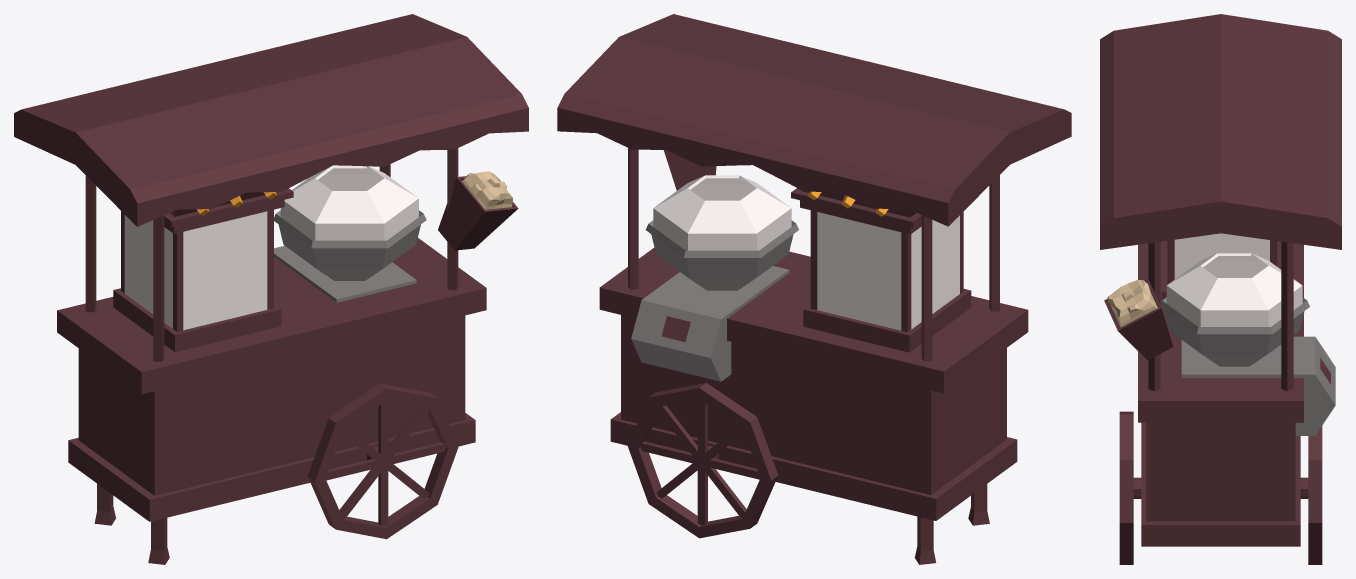
Rendered from amusement-park-stand-popcorn-big.glb.
3 views of the same model, side by side, from view 1: azimuth 30°, elevation 25°; view 2: azimuth 150°, elevation 25°; view 3: azimuth 270°, elevation 25° (orthographic).
Visible parts, largest first — view 1: stand-popcorn-big; view 2: stand-popcorn-big; view 3: stand-popcorn-big.
Boxes of the visible parts, x1=… form: stand-popcorn-big: x1=14, y1=14, x2=528, y2=564; stand-popcorn-big: x1=557, y1=14, x2=1071, y2=564; stand-popcorn-big: x1=1100, y1=14, x2=1341, y2=564.
Bounding box in the file's own units: 2.06 × 2.17 × 1.12.
